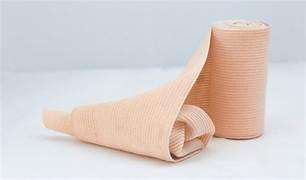cotton: (44, 21, 269, 160)
